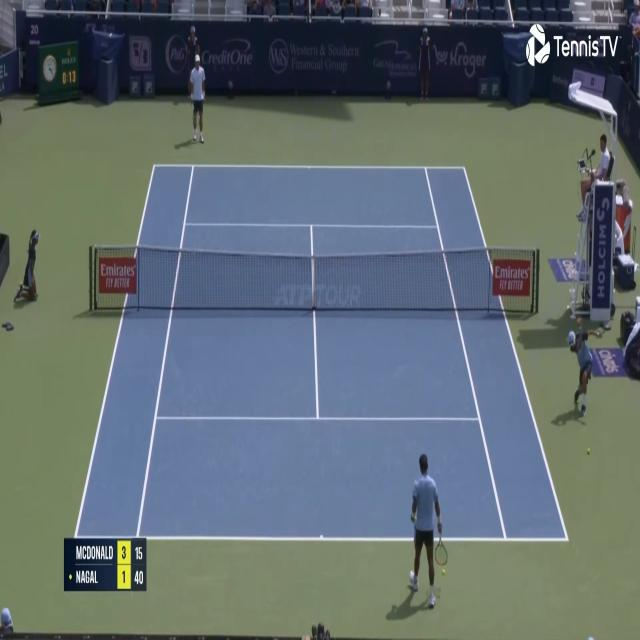tennis-player: (405, 450, 448, 613), (188, 50, 209, 146)
